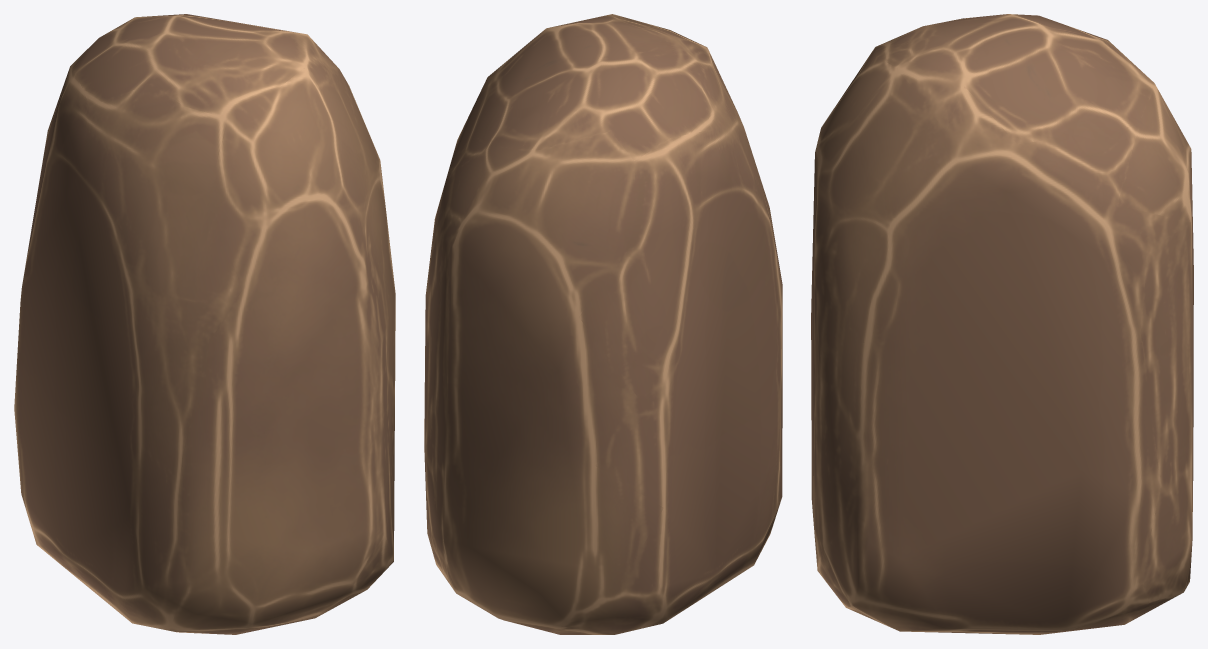
Rendered from Briks_302.fbx.
The picture shows the model from 3 angles, left to right: view 1: azimuth 30°, elevation 25°; view 2: azimuth 150°, elevation 25°; view 3: azimuth 270°, elevation 25°; orthographic projection. The views are drawn at different scales.
Parts seen in each view (by area): view 1: Briks_302; view 2: Briks_302; view 3: Briks_302.
Boxes of the visible parts, <box> form: Briks_302: <box>14,14,395,634</box>; Briks_302: <box>424,14,782,634</box>; Briks_302: <box>811,14,1193,634</box>.
Size of the model in its own units: 112 by 234 by 145.
